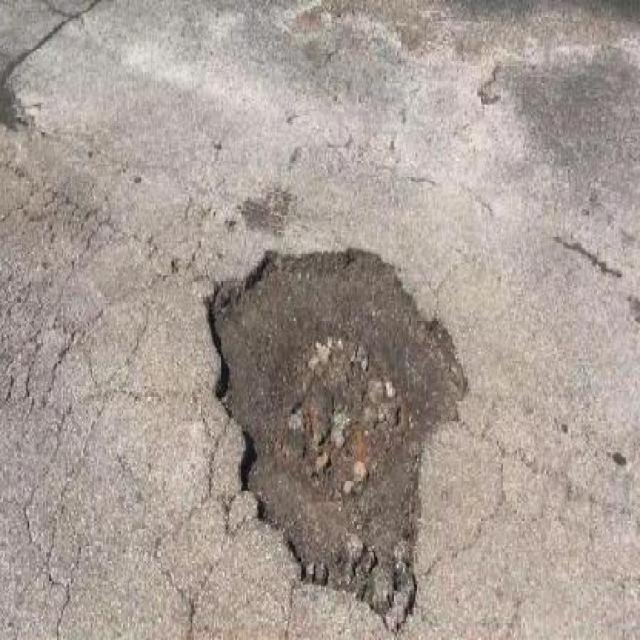Pothole: (200, 230, 471, 627)
